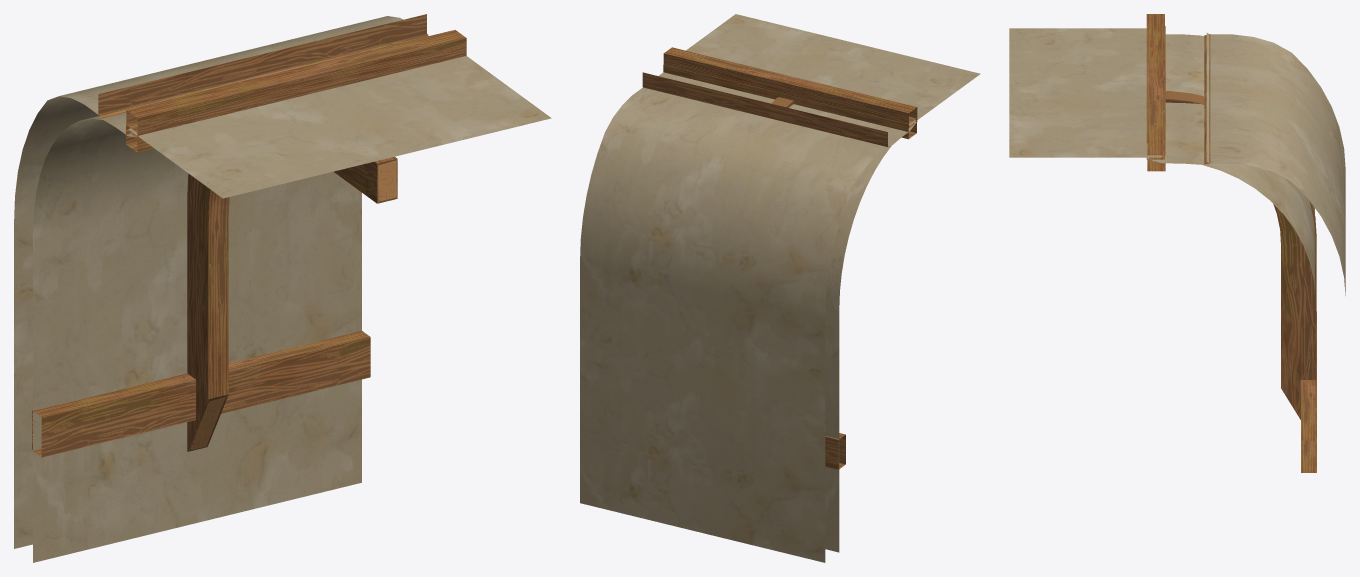
The model's file is Overhang_Plaster_Long.gltf.
The picture shows the model from 3 angles, left to right: view 1: azimuth 30°, elevation 25°; view 2: azimuth 150°, elevation 25°; view 3: azimuth 270°, elevation 25°; orthographic projection. The views are drawn at different scales.
Visible parts, largest first — view 1: Overhang_Plaster_Long; view 2: Overhang_Plaster_Long; view 3: Overhang_Plaster_Long.
Boxes of the visible parts, box(x1,y1,x2,y2) form: Overhang_Plaster_Long: box(14, 14, 551, 562); Overhang_Plaster_Long: box(580, 14, 980, 562); Overhang_Plaster_Long: box(1009, 14, 1345, 472).
Bounding box in the file's own units: 2 × 3.03 × 2.2.
2 materials, 2 textured.
